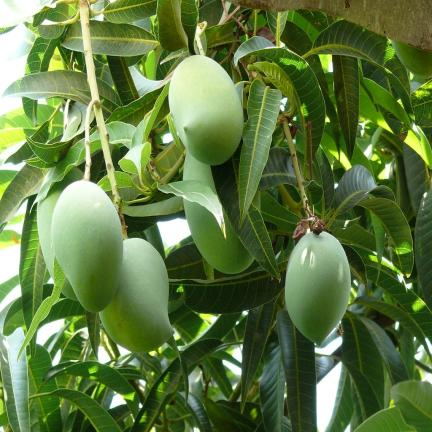mangoes: (52, 180, 123, 312), (100, 238, 173, 352), (169, 56, 242, 164), (285, 232, 350, 345), (184, 200, 253, 273), (37, 168, 83, 276), (392, 41, 431, 78)
